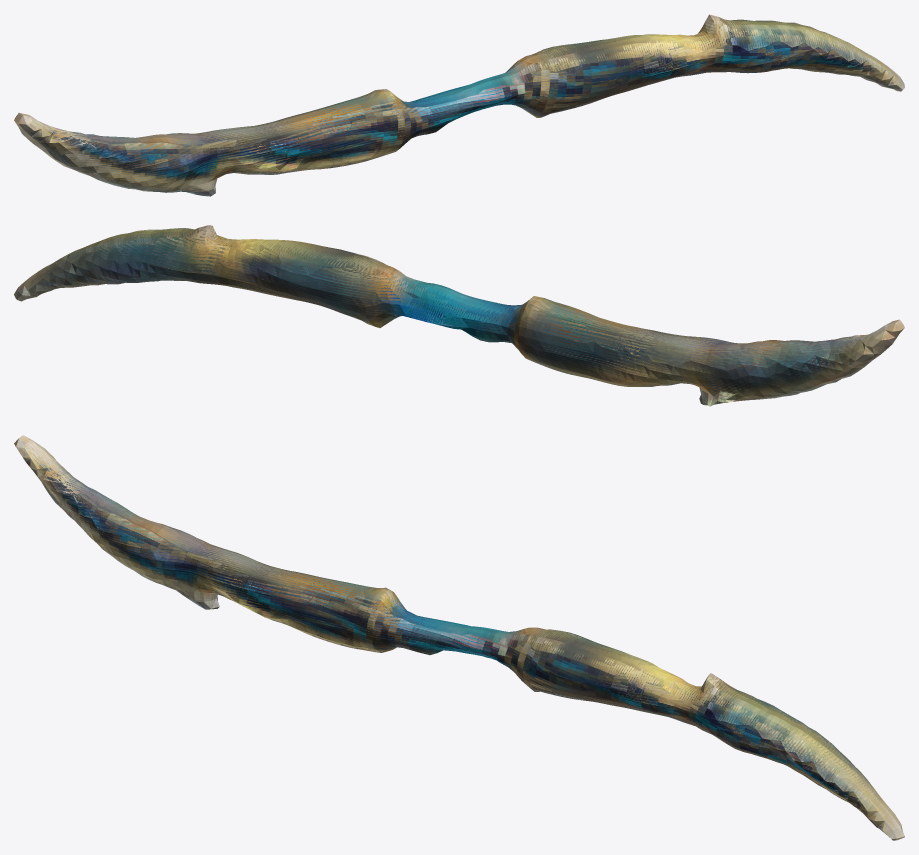
3 renders of one model, top to bottom at view 1: azimuth 30°, elevation 25°; view 2: azimuth 150°, elevation 25°; view 3: azimuth 330°, elevation 25°, orthographic.
Bounding box in the file's own units: 1.44 × 0.2987 × 0.1001.
1 material, 1 textured.
